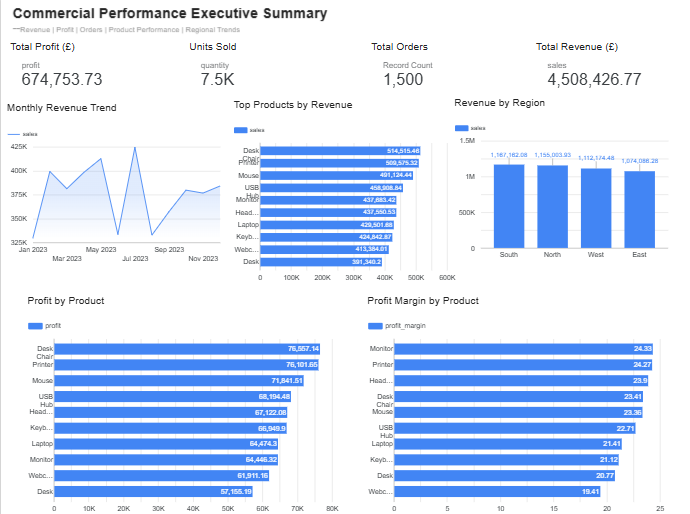

The page's visual inventory and layout, read from the dashboard file:
{"tool":"powerbi","page":{"name":"第 1 页","canvas":[1280,720],"ordinal":0},"visuals":[{"type":"card","title":"Total Revenue(£)","fields":{"Values":["Sum(retail_sales_dataset.sales)"]},"box":[0,43.7,229.9,118.2],"z":0},{"type":"card","title":"Total Profit (£)","fields":{"Values":["Sum(retail_sales_dataset.profit)"]},"box":[378,39.7,230.6,119.1],"z":1000},{"type":"lineChart","title":"Total Orders","fields":{"Y":["retail_sales_dataset.Total Orders"]},"box":[723.8,41.6,230.6,119.1],"z":2000},{"type":"card","title":"Avg Order Value (£)","fields":{"Values":["retail_sales_dataset.Avg_Order_Value"]},"box":[1041.3,41.6,230.6,119.1],"z":3000},{"type":"lineChart","title":"Monthly Revenue Trend","fields":{"Category":["retail_sales_dataset.Month Number"],"Y":["Sum(retail_sales_dataset.sales)"]},"box":[9.4,179.5,398.7,274],"z":4000},{"type":"columnChart","title":"Revenue by Region","fields":{"Category":["retail_sales_dataset.region"],"Y":["Sum(retail_sales_dataset.sales)"]},"box":[468.7,179.5,338.3,274],"z":5000},{"type":"barChart","title":"Top Products by Revenue","fields":{"Category":["retail_sales_dataset.product"],"Y":["Sum(retail_sales_dataset.sales)"]},"box":[850.4,179.5,379.8,274],"z":6000},{"type":"clusteredBarChart","title":"Profit by Product","fields":{"Category":["retail_sales_dataset.product"],"Y":["Sum(retail_sales_dataset.profit)"]},"box":[51,453.5,570.7,266.5],"z":7000},{"type":"clusteredBarChart","title":"Profit Margin by Product","fields":{"Y":["retail_sales_dataset.Profit Margin"],"Category":["retail_sales_dataset.product"]},"box":[678.4,453.5,551.8,266.5],"z":8000},{"type":"textbox","box":[0,0,527.9,42.1],"z":9000}]}

Visuals, with their boxes on the page's 1280x720 design canvas (x1, y1, x2, y2). These are canvas units, not pixel positions in the 690x514 screenshot, which may show the page scaled, cropped or inside an application window:
"Total Revenue(£)" card: 0,44,230,162
"Total Profit (£)" card: 378,40,609,159
"Total Orders" lineChart: 724,42,954,161
"Avg Order Value (£)" card: 1041,42,1272,161
"Monthly Revenue Trend" lineChart: 9,180,408,454
"Revenue by Region" columnChart: 469,180,807,454
"Top Products by Revenue" barChart: 850,180,1230,454
"Profit by Product" clusteredBarChart: 51,454,622,720
"Profit Margin by Product" clusteredBarChart: 678,454,1230,720
textbox: 0,0,528,42
